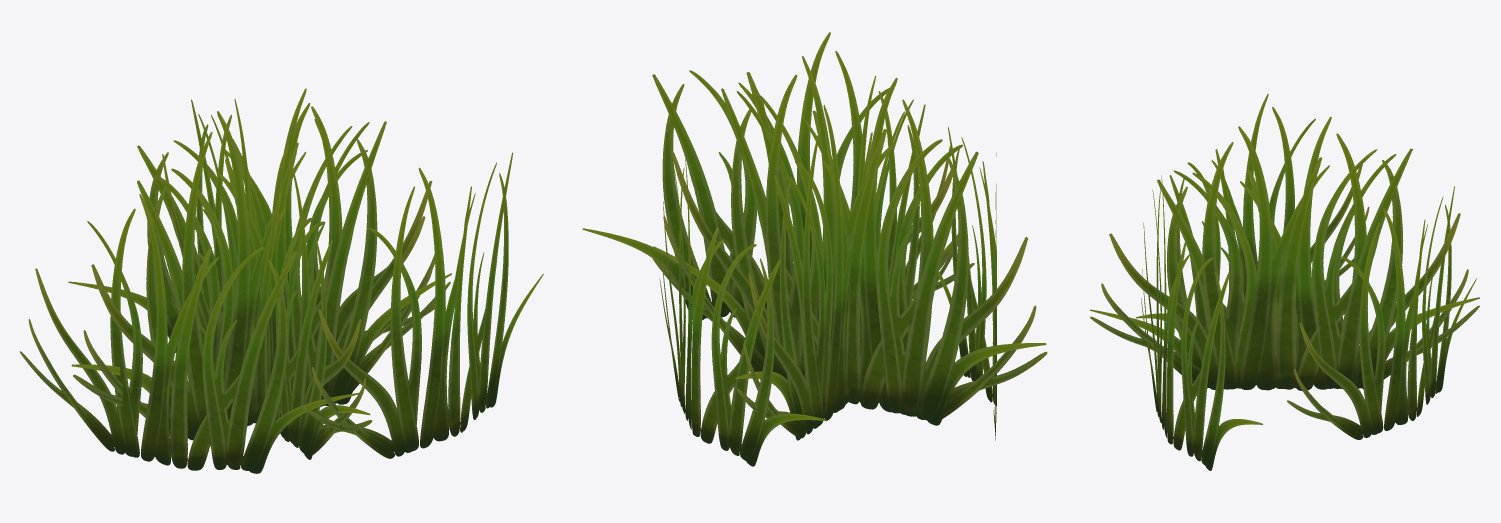
Rendered from SM_Grass_01.fbx.
3 views of the same model, side by side, from view 1: azimuth 30°, elevation 25°; view 2: azimuth 150°, elevation 25°; view 3: azimuth 270°, elevation 25° (orthographic). The views are drawn at different scales.
Parts seen in each view (by area): view 1: SM_Grass_01; view 2: SM_Grass_01; view 3: SM_Grass_01.
Boxes of the visible parts, x1,y1,x2,y2 form: SM_Grass_01: (19, 88, 543, 473); SM_Grass_01: (582, 32, 1047, 466); SM_Grass_01: (1090, 94, 1479, 470).
Bounding box in the file's own units: 0.5906 × 0.394 × 0.4925.
